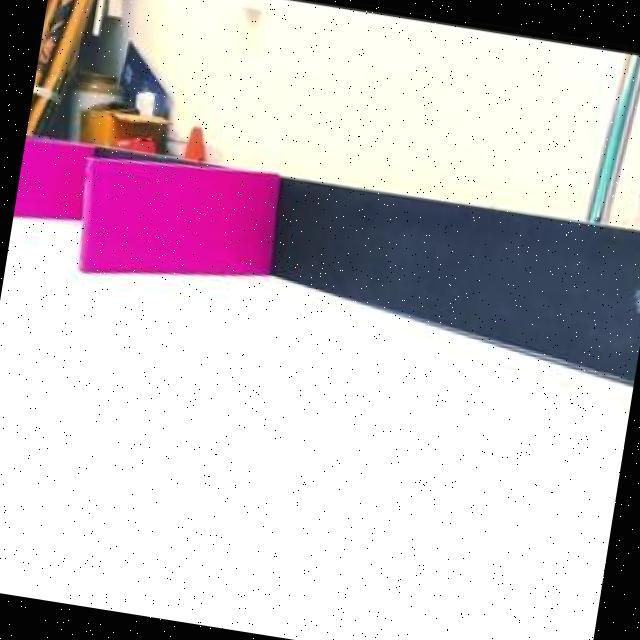xparking: (86, 154, 282, 284), (14, 130, 80, 220)
